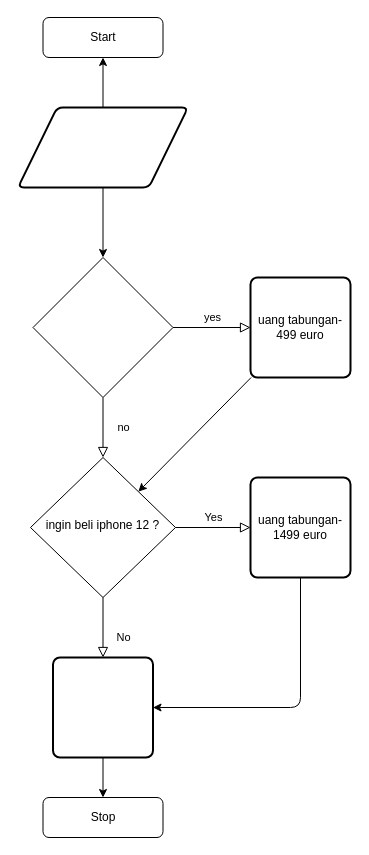
The diagram is 369 pixels wide and 855 high, and some of its shapes have lost their labels. The box of each missing label's shape, as (x1, y1, x2, y2) in pixels:
ingin beli ps5 ?: (32, 256, 173, 398)
sisa uang tabungan: (52, 656, 154, 758)
uang tabungan (euro): (16, 106, 188, 188)
